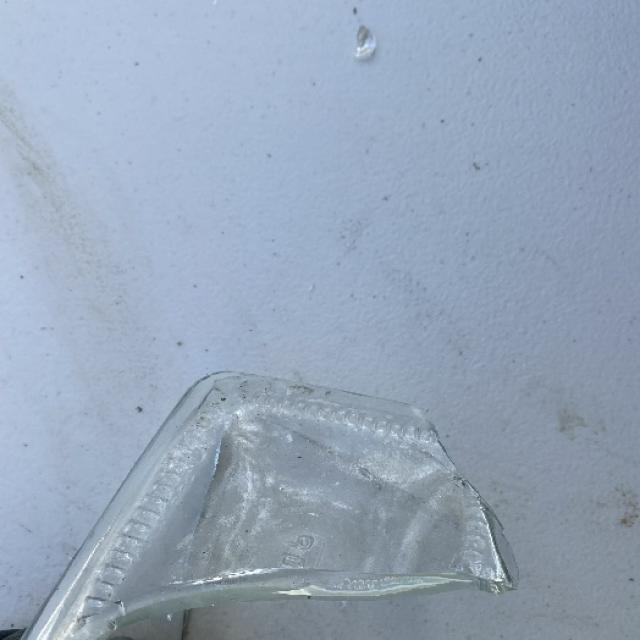plastik_botol: (123, 347, 516, 640)
